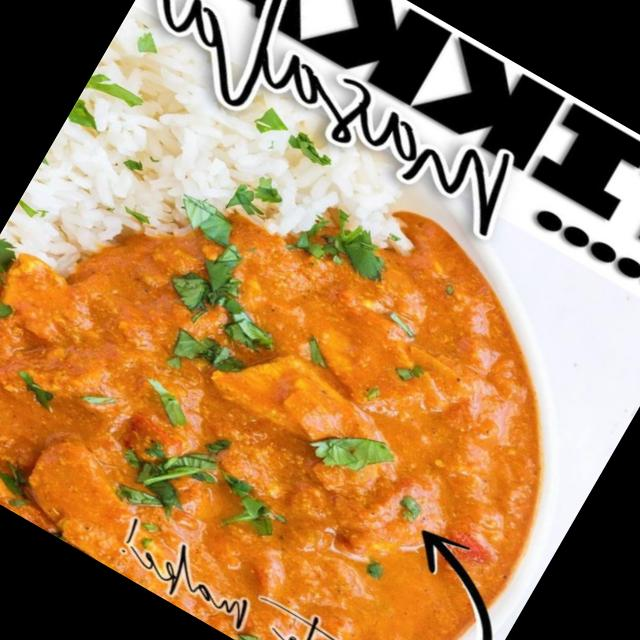chicken: (0, 93, 611, 640)
rice: (6, 0, 359, 351)
